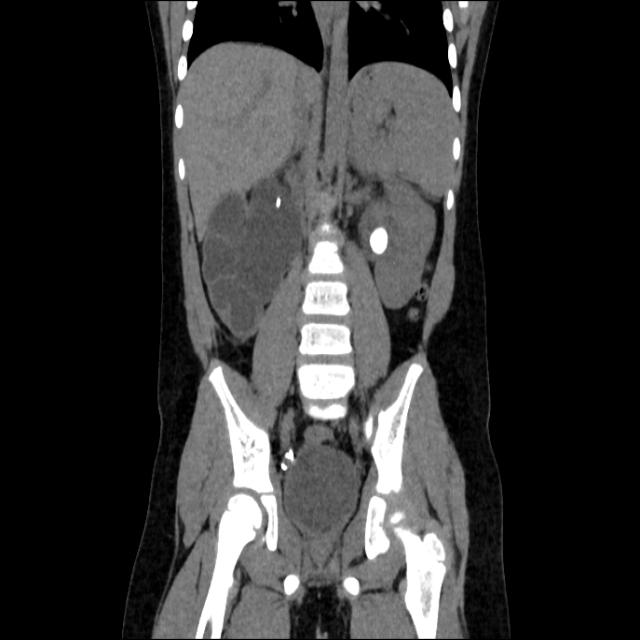kidney: (202, 180, 302, 340), (356, 174, 442, 309)
stone: (369, 226, 389, 254), (272, 191, 283, 207)
